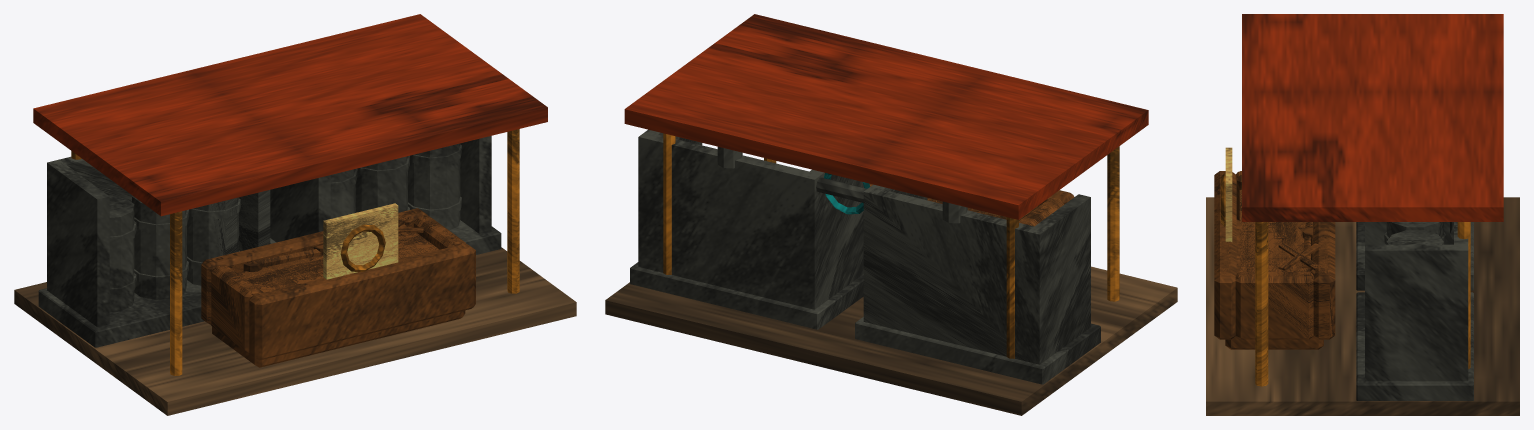
The model's file is east-horizon-fuel-reserve.glb.
3 renders of one model, left to right at view 1: azimuth 30°, elevation 25°; view 2: azimuth 150°, elevation 25°; view 3: azimuth 270°, elevation 25°, orthographic. The views are drawn at different scales.
Visible parts, largest first — view 1: east-horizon-fuel-reserve; view 2: east-horizon-fuel-reserve; view 3: east-horizon-fuel-reserve.
Boxes of the visible parts, x1,y1,x2,y2 form: east-horizon-fuel-reserve: (14,14,576,415); east-horizon-fuel-reserve: (605,14,1177,415); east-horizon-fuel-reserve: (1206,14,1519,415).
Size of the model in its own units: 7.4 by 3.43 by 4.8.
1 material, 1 textured.
